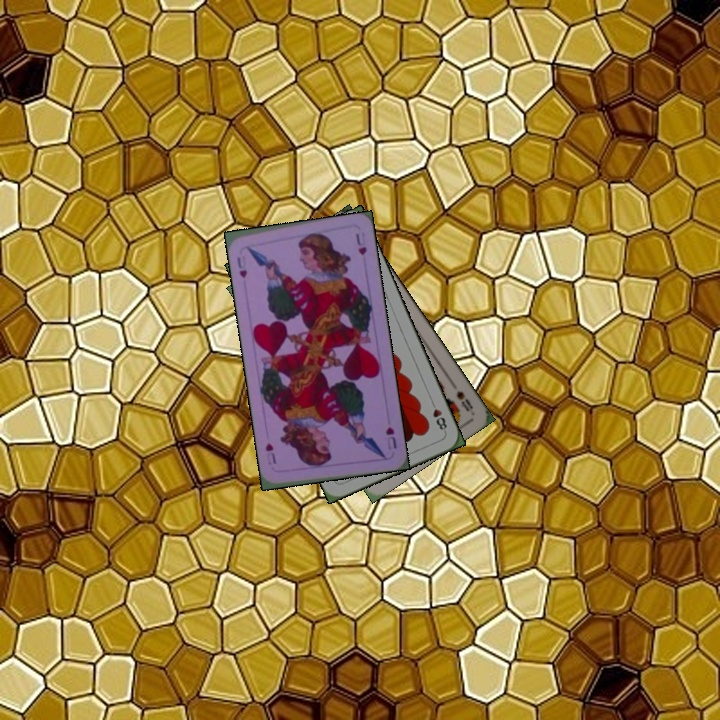H8: (427, 396, 450, 435)
HU: (233, 244, 250, 280), (381, 422, 399, 452)
S8: (452, 387, 475, 414)
